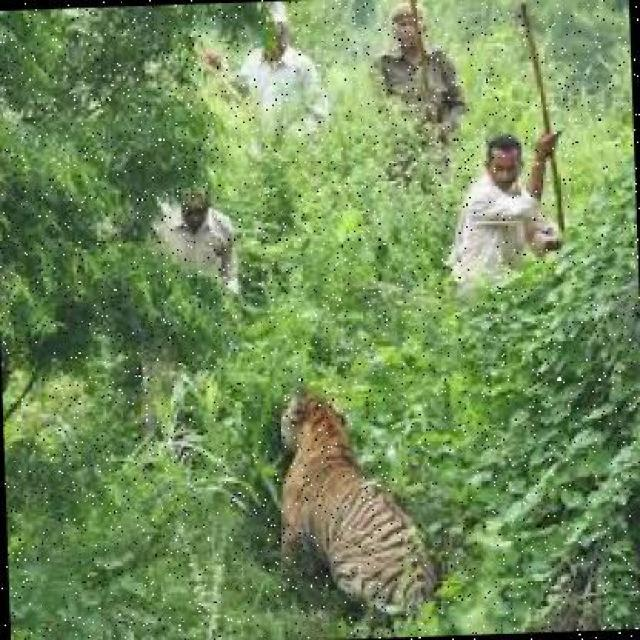p_active: (250, 392, 468, 590)
p_export: (20, 3, 611, 632)
poacher: (436, 104, 582, 294), (222, 2, 342, 206), (364, 2, 466, 190), (149, 181, 243, 297)
